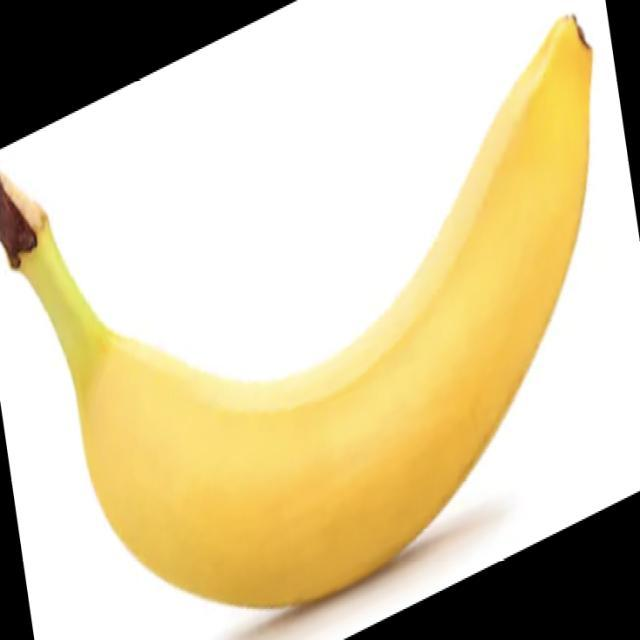Banana: (0, 12, 594, 610)
